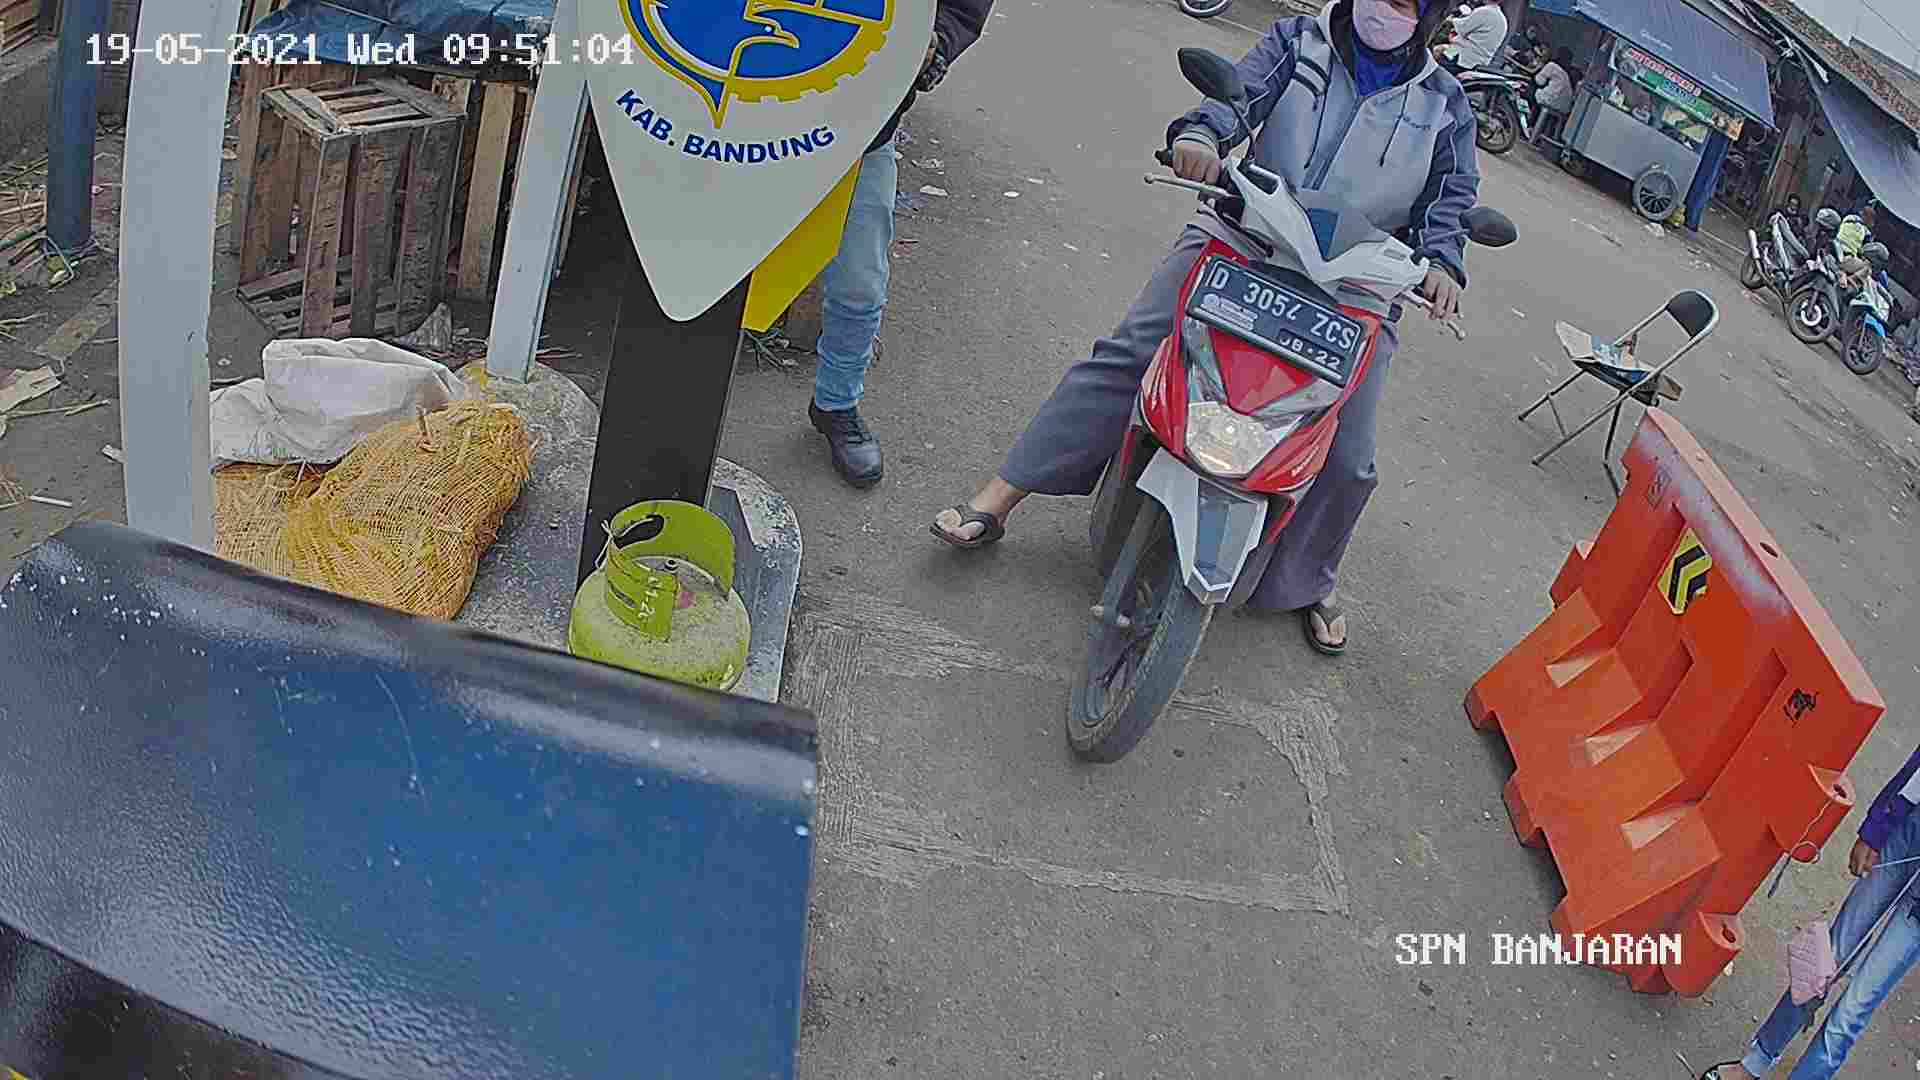motor: (1036, 131, 1451, 815)
